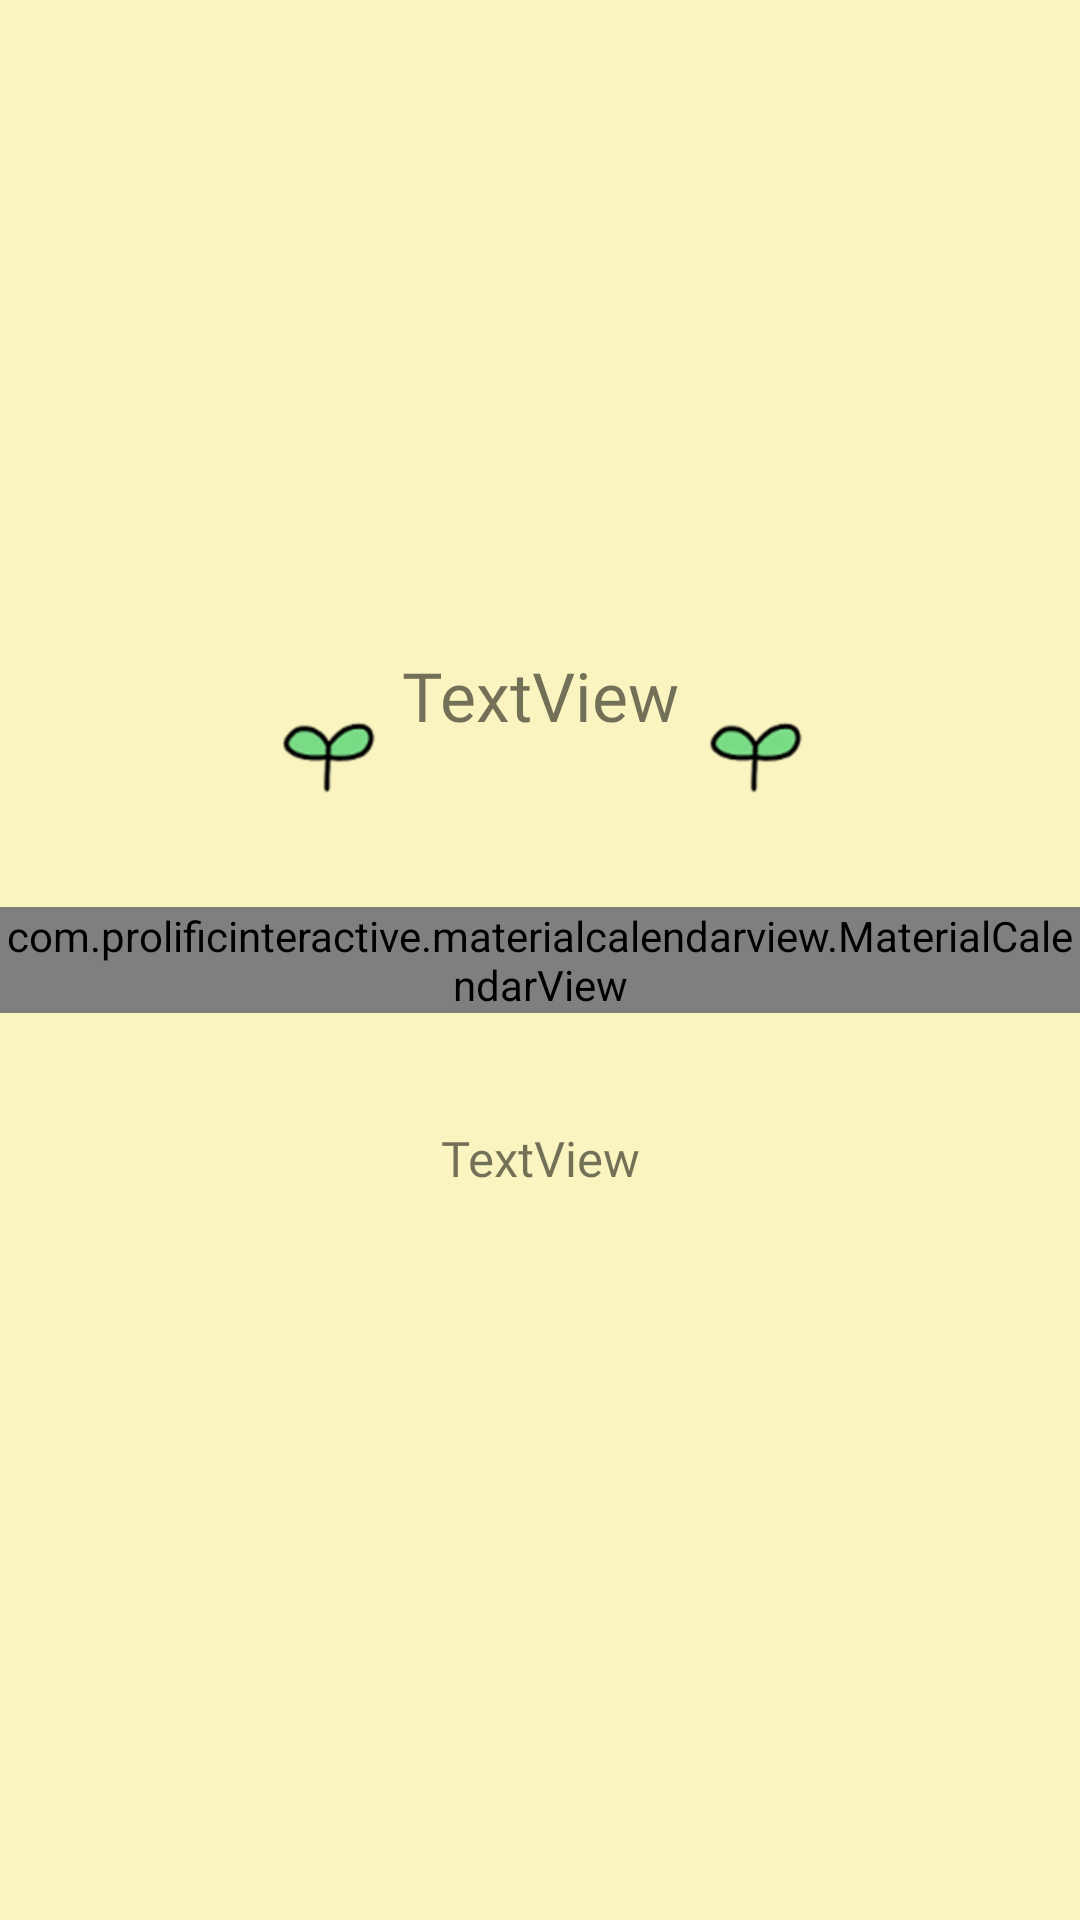

Icon click points for this 1080x1920 phone screenshot, format (x=x, y=y):
shakeflower: (x=329, y=758), (x=756, y=758)
